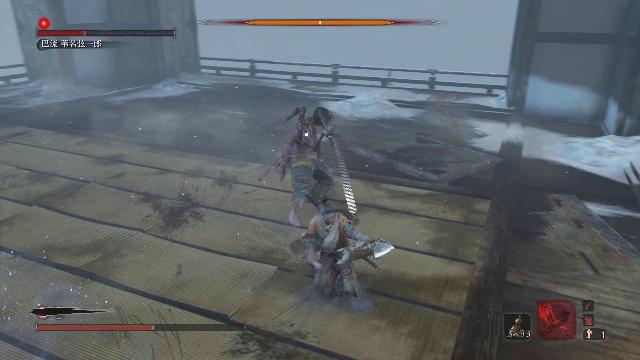sk: (294, 201, 388, 303)
